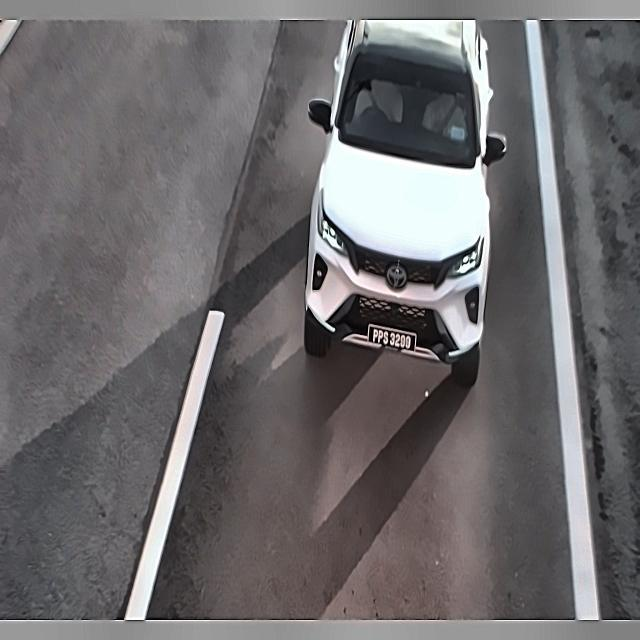car: (363, 312, 423, 360)
